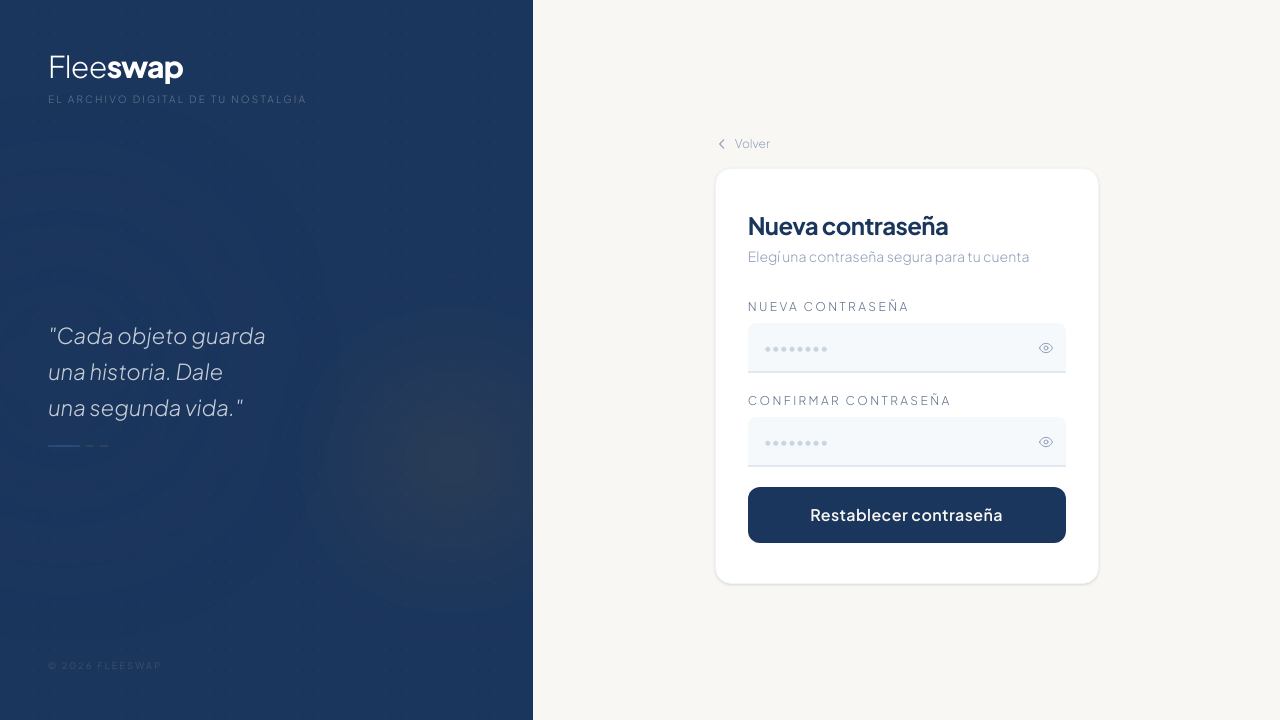
Test: Reset password › valida que las contraseñas coincidan
This screenshot has width=1280, height=720.
Type "Password123!" into the password field named "password" at (907, 348), box [748, 323, 1066, 373]
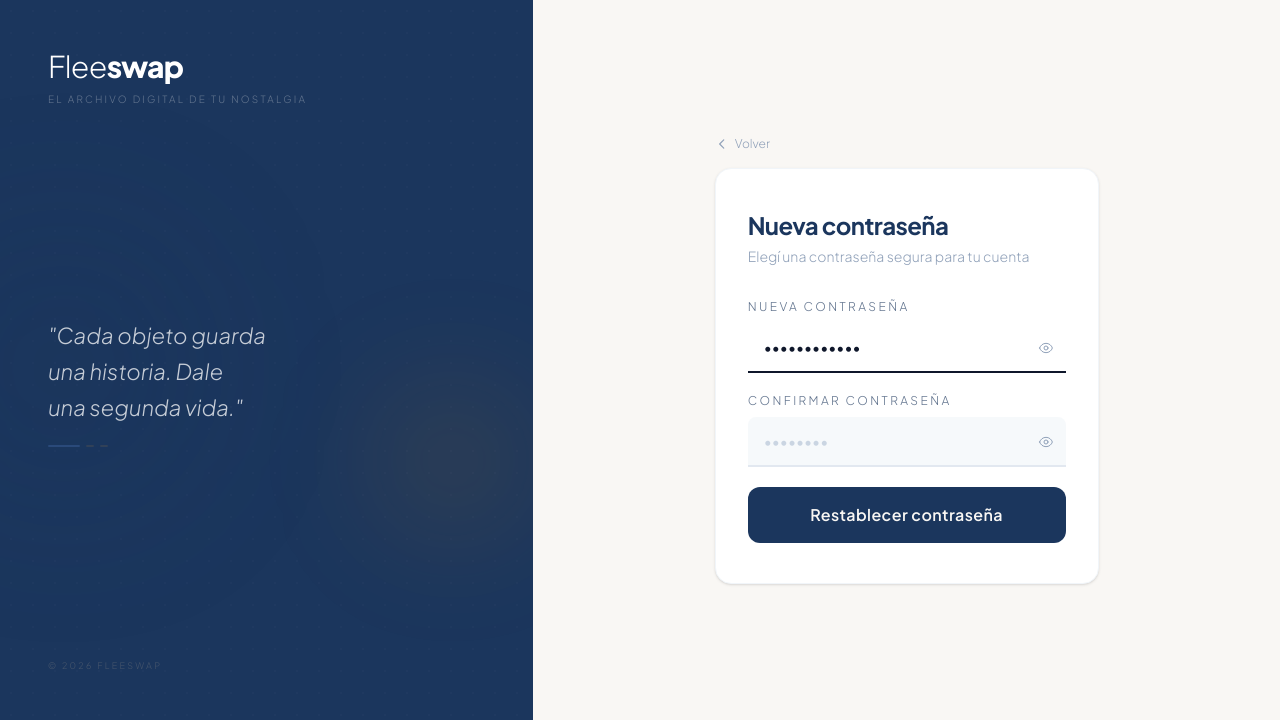
Type "Otra123!" into the password field named "confirm" at (907, 442), box [748, 417, 1066, 467]
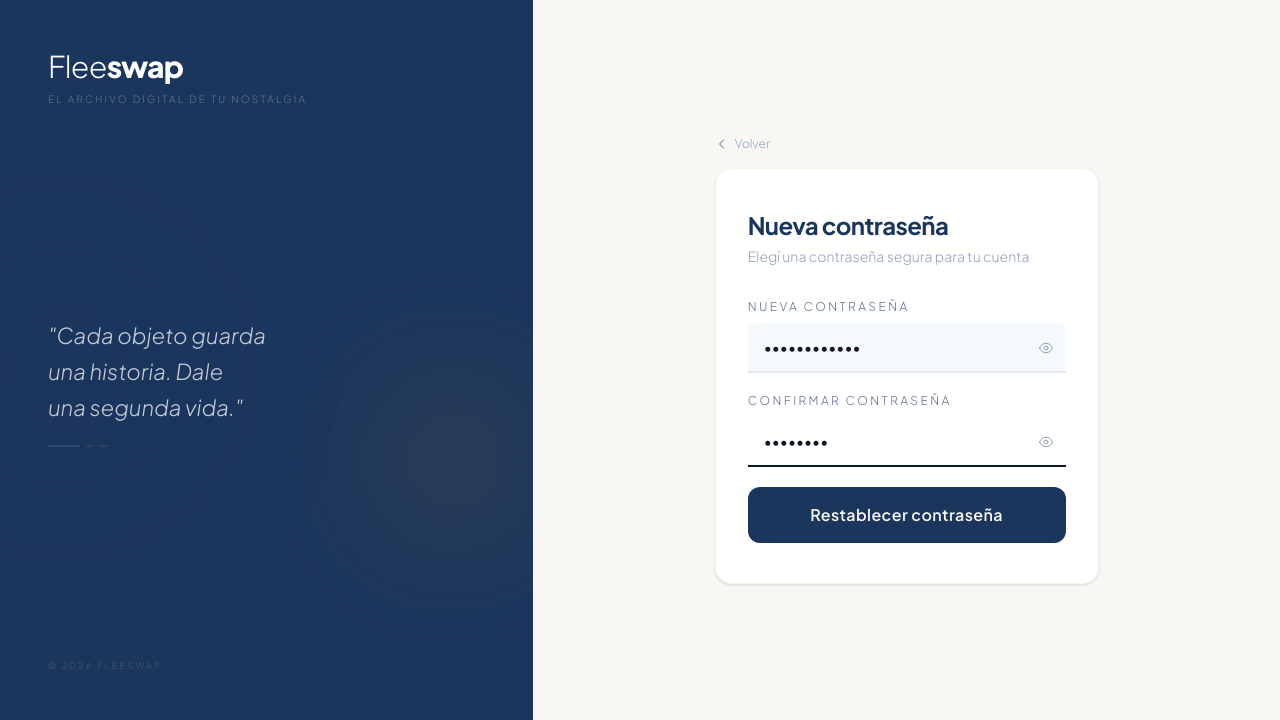
Click the button "Restablecer contraseña" at (907, 515), box [748, 487, 1066, 543]
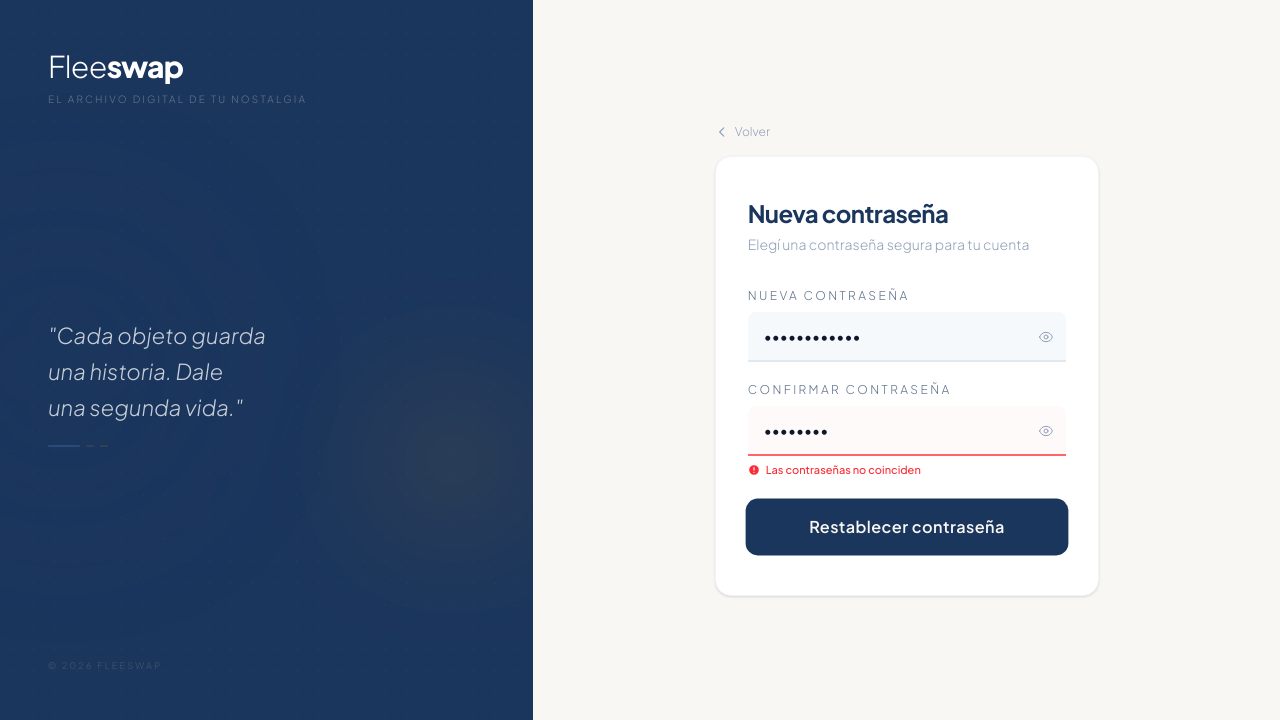
Expected: the text "Las contraseñas no coinciden" is shown, [748, 463, 921, 476]
